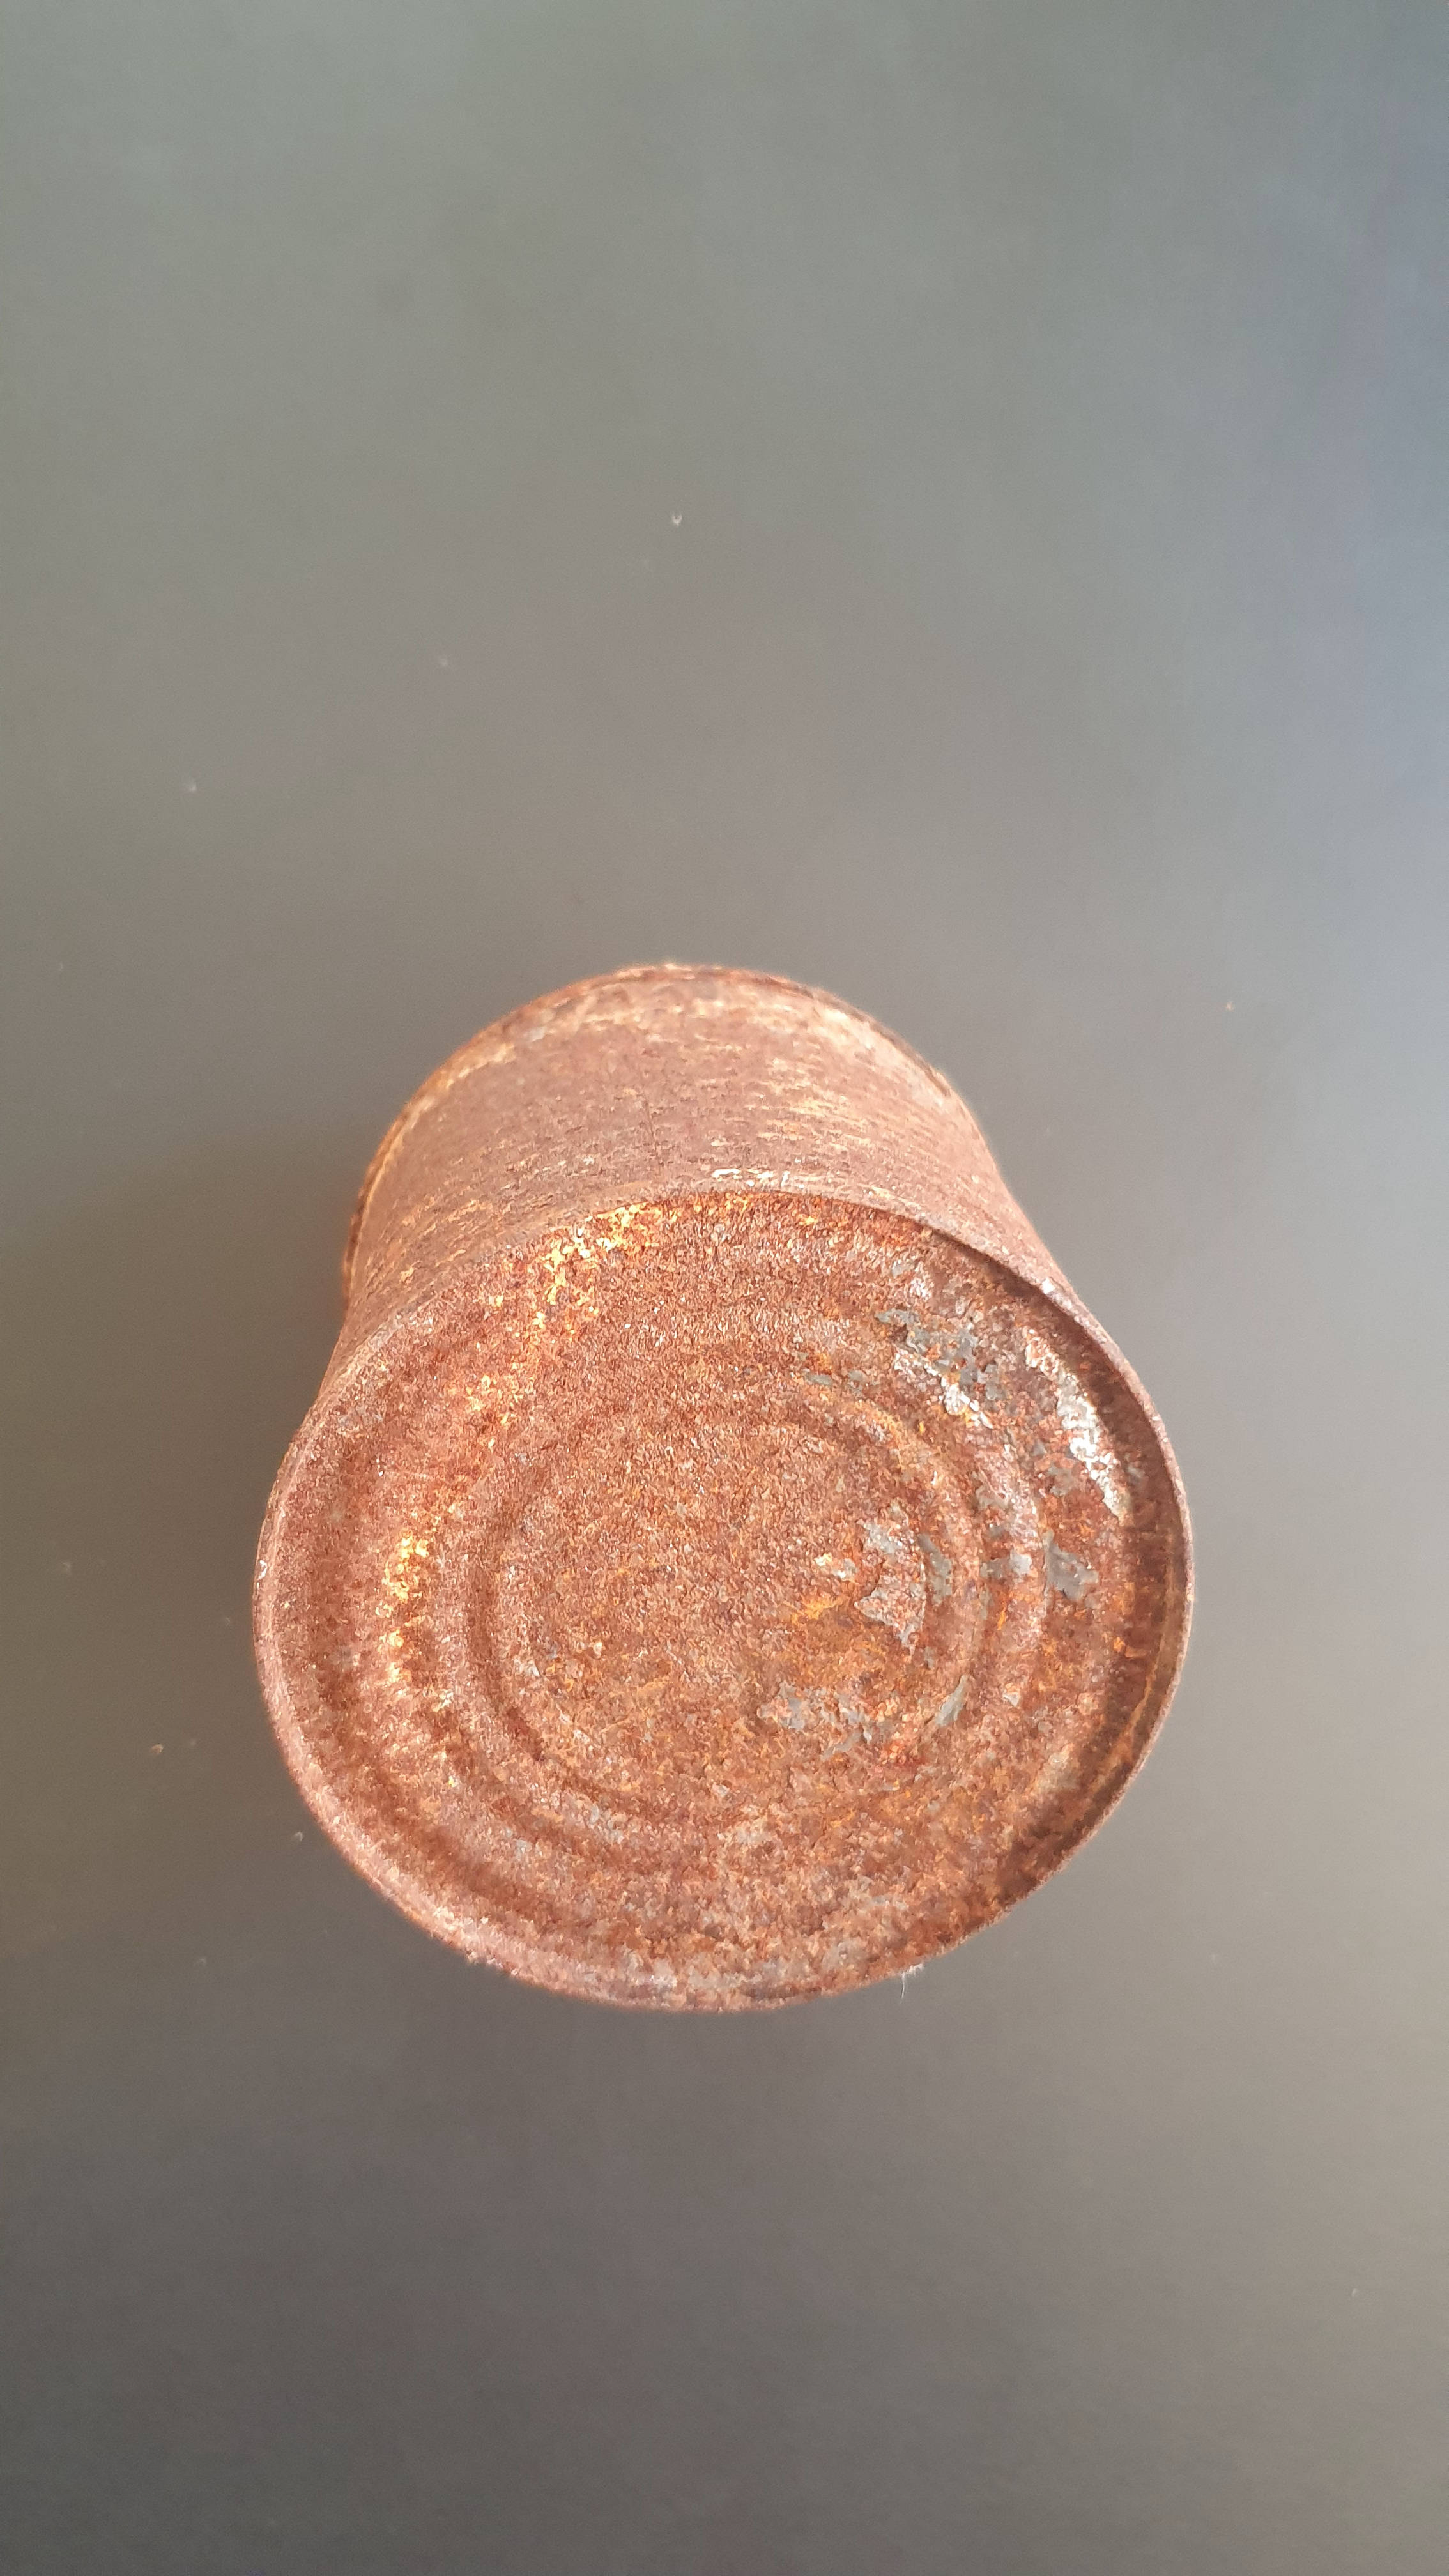metal: (212, 911, 1235, 2105)
